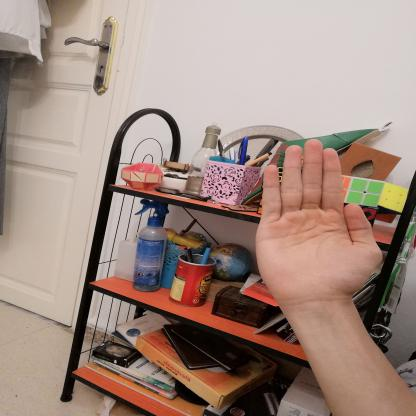SEEN: (246, 132, 392, 315)
